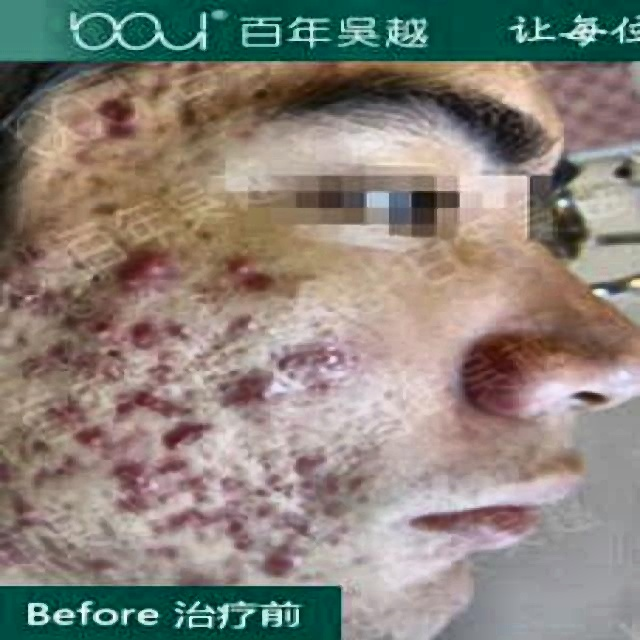nodule: (305, 350, 389, 418), (172, 475, 240, 514), (70, 119, 144, 154), (257, 546, 327, 582), (107, 250, 172, 288), (211, 510, 285, 542), (189, 341, 259, 371), (76, 354, 127, 395), (11, 336, 62, 376), (262, 341, 319, 375), (226, 248, 279, 284), (138, 451, 192, 486), (279, 451, 336, 484), (65, 319, 132, 347), (62, 538, 107, 579), (169, 425, 231, 454), (307, 475, 361, 508), (79, 92, 141, 120), (279, 516, 333, 547), (132, 313, 178, 347), (302, 314, 346, 348), (96, 462, 141, 495), (149, 392, 206, 418), (70, 423, 116, 453), (42, 397, 88, 427), (138, 78, 186, 106), (330, 547, 372, 577), (245, 442, 288, 471), (110, 425, 161, 449), (220, 122, 265, 148), (220, 373, 273, 395), (214, 556, 254, 584), (11, 495, 48, 525), (147, 349, 180, 382), (169, 564, 214, 588), (90, 516, 127, 545), (189, 286, 225, 315), (3, 275, 34, 306), (8, 241, 48, 265), (51, 452, 87, 478), (28, 527, 59, 556), (31, 289, 70, 312), (141, 518, 178, 542), (42, 167, 79, 191), (104, 397, 138, 423), (282, 272, 316, 298), (0, 532, 23, 570), (138, 544, 186, 562), (180, 215, 212, 241), (22, 462, 54, 488), (222, 312, 256, 334), (79, 167, 116, 187), (178, 122, 208, 146), (251, 495, 282, 518), (372, 601, 403, 623), (22, 434, 54, 455), (166, 106, 203, 124), (93, 200, 124, 221), (133, 386, 155, 414), (240, 479, 270, 499), (251, 319, 279, 340), (338, 610, 364, 629), (0, 455, 17, 484), (62, 280, 85, 301), (370, 625, 400, 638)
